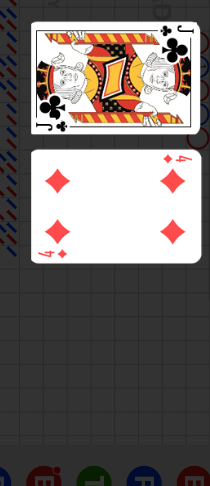4D: (38, 248, 69, 260)
JC: (157, 23, 195, 39)
